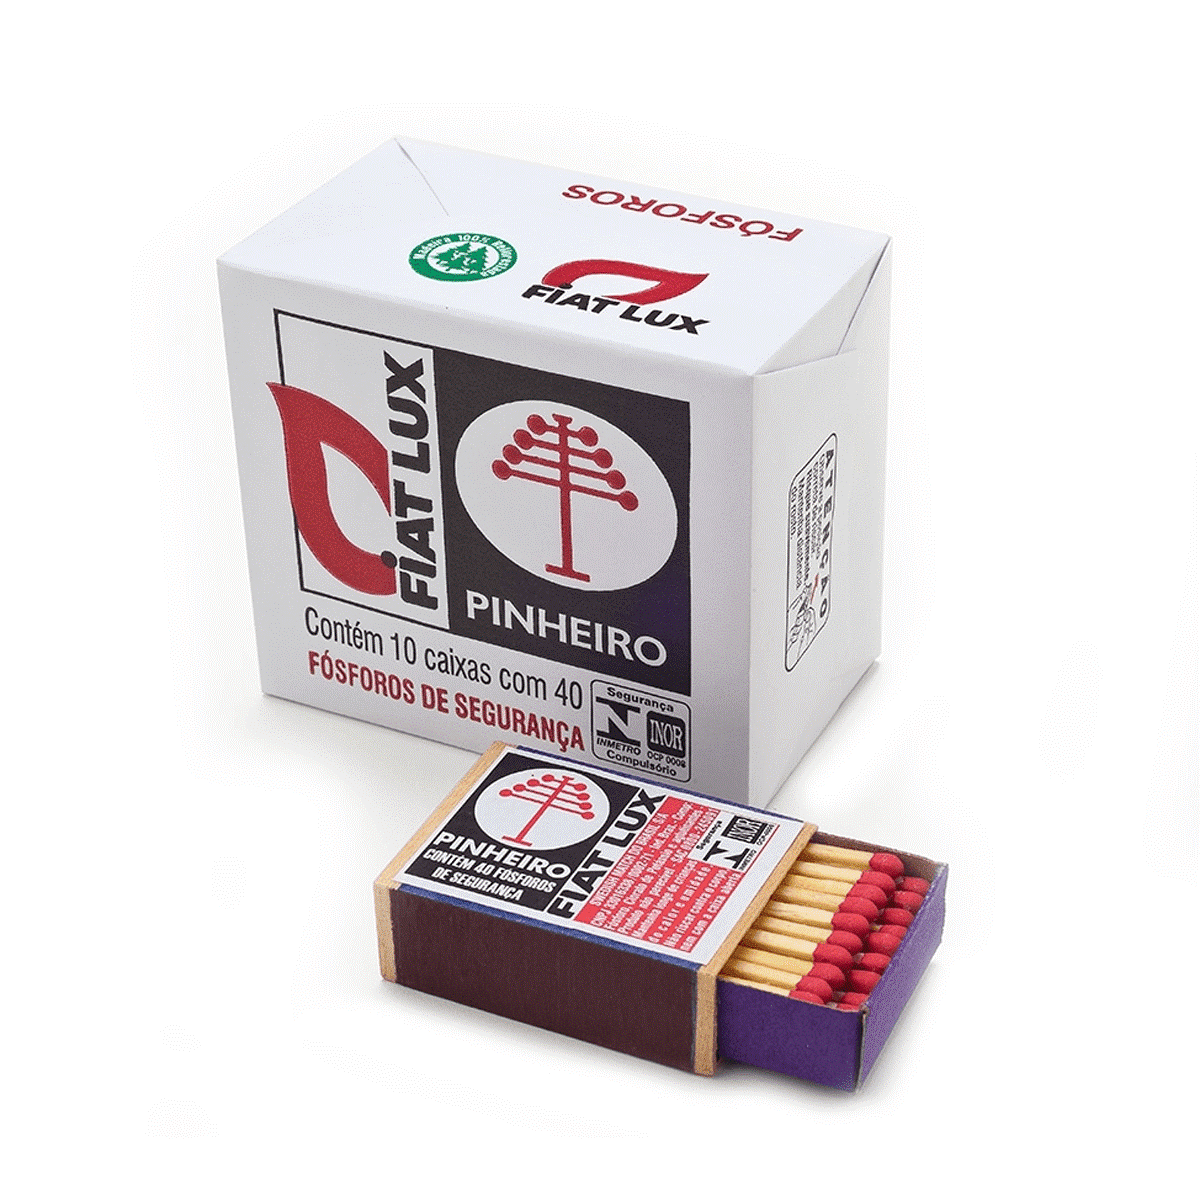creme_de_leite: (451, 500, 749, 700)
